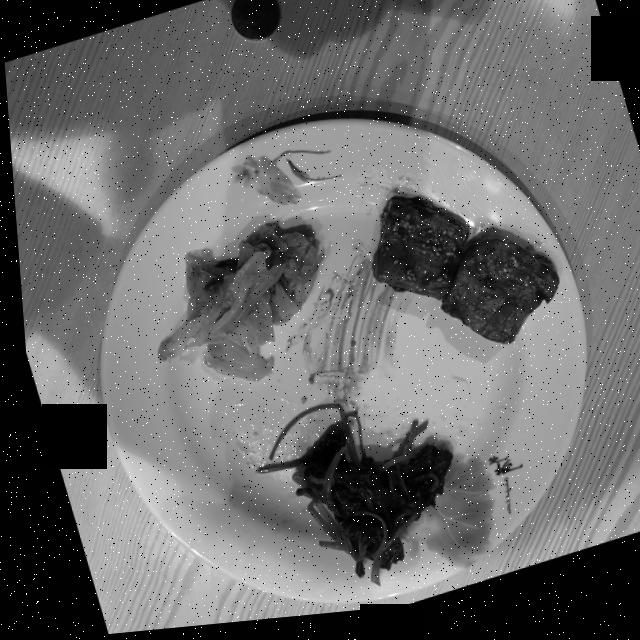cabbage: (151, 229, 313, 384)
coin: (230, 0, 279, 44)
creamy tofu: (367, 203, 553, 353)
sweet potato leaves: (248, 408, 444, 590)
